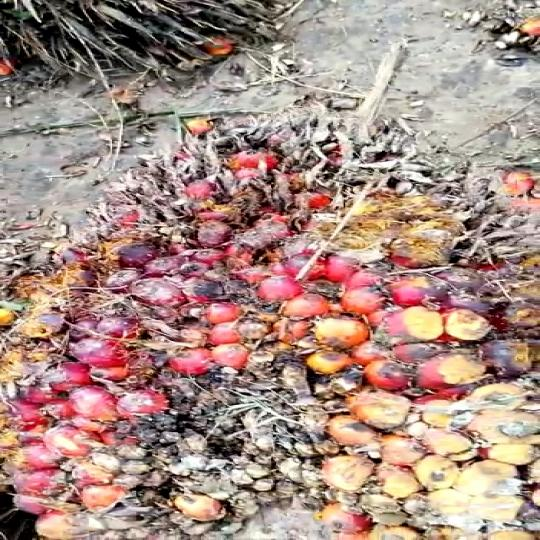masak: (0, 124, 540, 540)
